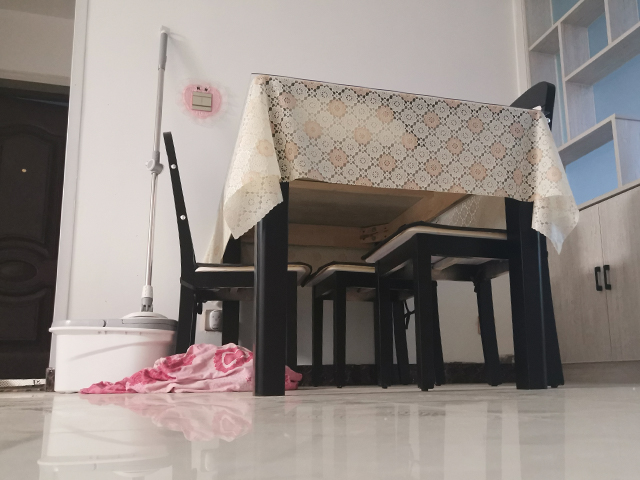cabinet: (550, 186, 640, 380)
stool: (360, 82, 563, 387), (160, 128, 314, 368)
table: (210, 70, 555, 397)
